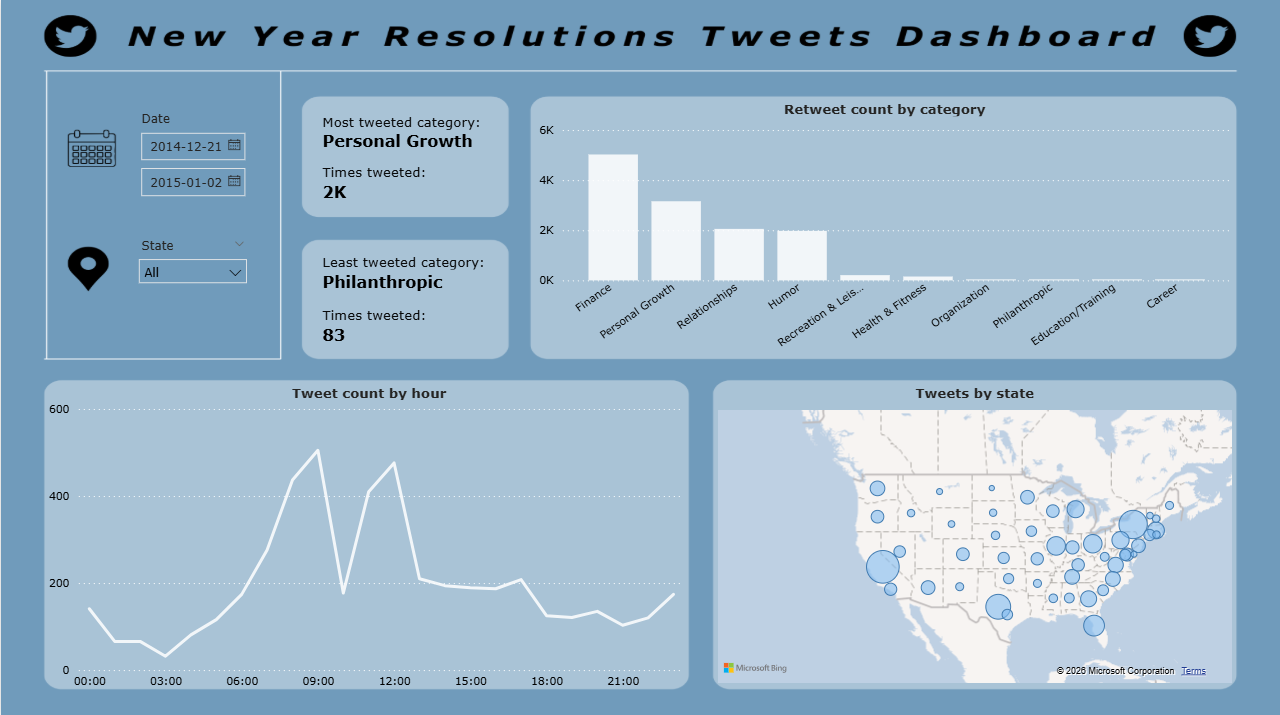

Layout of this report page (visuals, bound fields, positions):
{"tool":"powerbi","page":{"name":"Tweets","canvas":[1280,720],"ordinal":0},"visuals":[{"type":"cardVisual","fields":{"Data":["New_years_resolutions.most_tweeted_category","New_years_resolutions.most_tweeted_count"]},"box":[292.9,101.2,232.1,120.2],"z":0},{"type":"cardVisual","fields":{"Data":["New_years_resolutions.least_tweeted_category","New_years_resolutions.least_tweeted_count"]},"box":[292.9,233.3,232.1,133.3],"z":1000},{"type":"columnChart","title":"Retweet count by category","fields":{"Y":["Sum(New_years_resolutions.retweet_count)"],"Category":["New_years_resolutions.tweet_category"]},"box":[532.1,101.2,702.4,258.3],"z":2000},{"type":"lineChart","title":"Tweet count by hour","fields":{"Category":["New_years_resolutions.tweet_hour"],"Y":["New_years_resolutions.tweets_count"]},"box":[42.9,384.5,651.2,313.1],"z":3000},{"type":"map","title":"Tweets by state","fields":{"Category":["New_years_resolutions.Location"],"Size":["New_years_resolutions.tweets_count"]},"box":[711.9,384.5,522.6,303.6],"z":4000},{"type":"slicer","fields":{"Values":["New_years_resolutions.tweet_state"]},"box":[127.4,233.3,128.6,66.7],"z":5000},{"type":"slicer","fields":{"Values":["New_years_resolutions.tweet_created"]},"box":[127.4,107.1,128.6,109.5],"z":6000}]}

Visuals, with their boxes in screenshot pixels (x1, y1, x2, y2), scaled from the page's 1280x720 canvas onto the 1280x715 screenshot:
cardVisual - New_years_resolutions.most_tweeted_category x New_years_resolutions.most_tweeted_count: [293, 100, 525, 220]
cardVisual - New_years_resolutions.least_tweeted_category x New_years_resolutions.least_tweeted_count: [293, 232, 525, 364]
"Retweet count by category" columnChart: [532, 100, 1234, 357]
"Tweet count by hour" lineChart: [43, 382, 694, 693]
"Tweets by state" map: [712, 382, 1234, 683]
slicer - New_years_resolutions.tweet_state: [127, 232, 256, 298]
slicer - New_years_resolutions.tweet_created: [127, 106, 256, 215]
